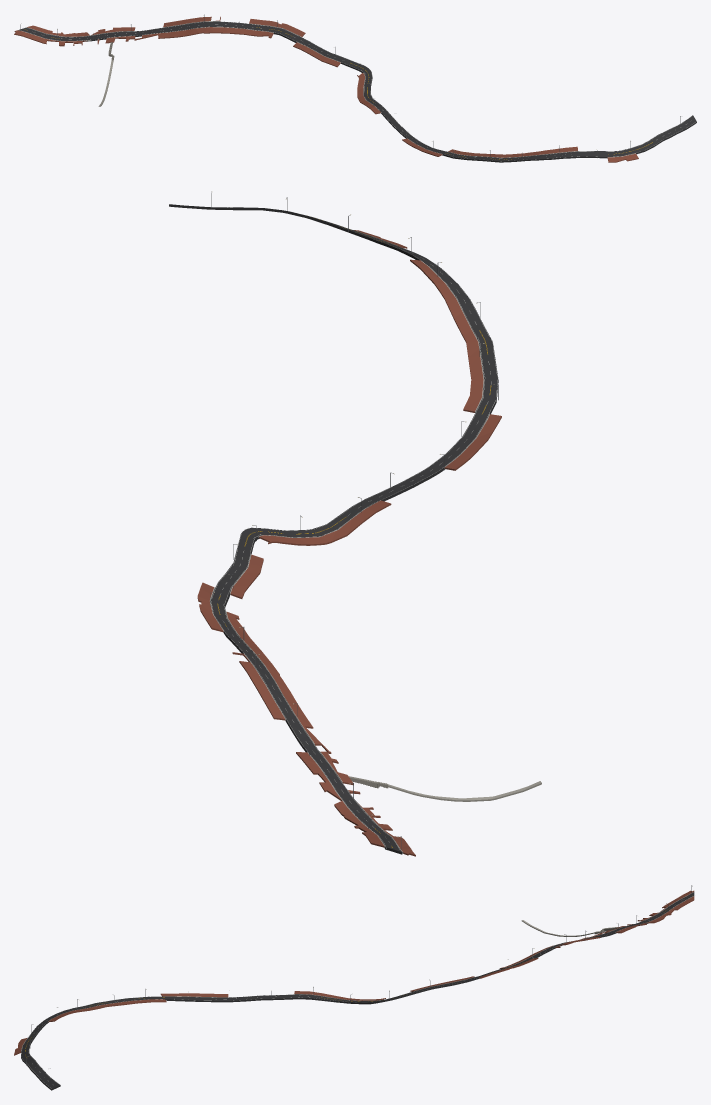
File: 16-54704-29733.ada25e09.glb
3 views of the same model, one above another, from view 1: azimuth 30°, elevation 25°; view 2: azimuth 150°, elevation 25°; view 3: azimuth 270°, elevation 25° (orthographic). The views are drawn at different scales.
Size of the model in its own units: 402 by 53.62 by 522.
